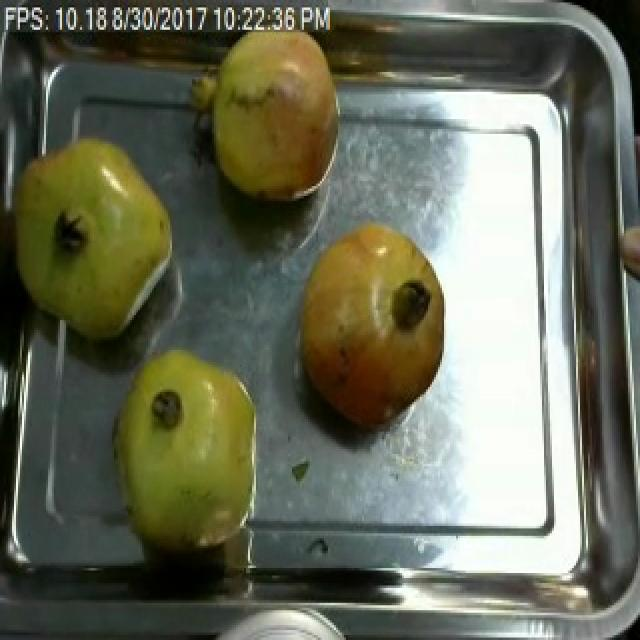fruit: (94, 328, 276, 566), (0, 124, 190, 350), (290, 211, 452, 441), (198, 7, 344, 211), (614, 201, 640, 298)
